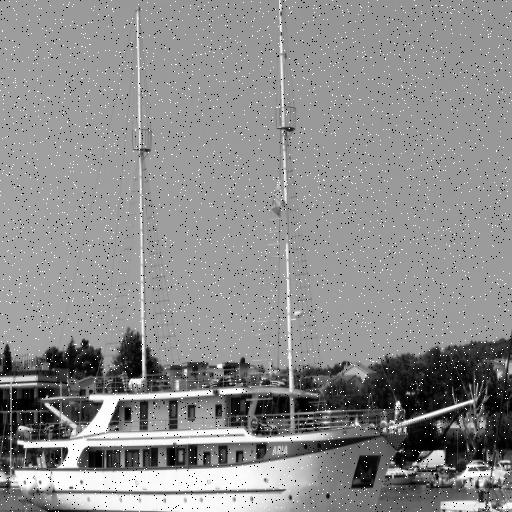cruises: (13, 370, 412, 512)
